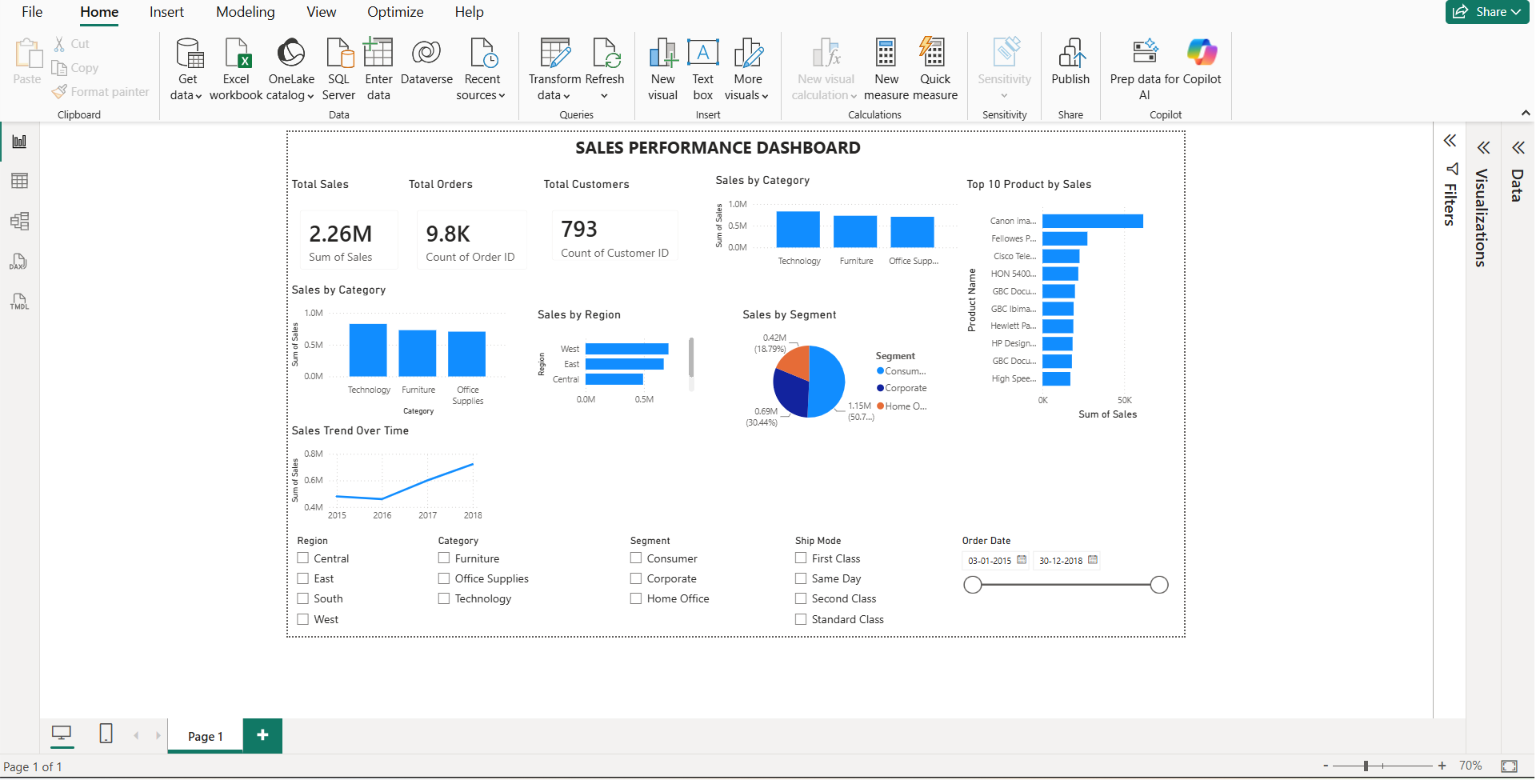

Layout of this report page (visuals, bound fields, positions):
{"tool":"powerbi","page":{"name":"Page 1","canvas":[1280,720],"ordinal":0},"visuals":[{"type":"textbox","box":[406,0,644,64],"z":0},{"type":"cardVisual","title":"Total Sales","fields":{"Data":["Sum(train.Sales)"]},"box":[0,64.3,175.7,150],"z":1000},{"type":"cardVisual","title":"Total Orders","fields":{"Data":["CountNonNull(train.Order ID)"]},"box":[167.1,64.3,192.9,150],"z":2000},{"type":"cardVisual","title":"Total Customers","fields":{"Data":["Count(train.Customer ID)"]},"box":[360,64.3,215.7,137.1],"z":3000},{"type":"clusteredColumnChart","title":"Sales by Category","fields":{"Category":["train.Category"],"Y":["Sum(train.Sales)"]},"box":[0,214.3,318.6,195.7],"z":4000},{"type":"lineChart","title":"Sales Trend Over Time","fields":{"Y":["Sum(train.Sales)"],"Category":["train.Order Date.Variation.Date Hierarchy.Year","train.Order Date.Variation.Date Hierarchy.Quarter","train.Order Date.Variation.Date Hierarchy.Month"]},"box":[0,415.7,282,150],"z":5000},{"type":"clusteredBarChart","title":"Sales by Region","fields":{"Category":["train.Region"],"Y":["Sum(train.Sales)"]},"box":[351.4,250,234.3,150],"z":6000},{"type":"pieChart","title":"Sales by Segment","fields":{"Category":["train.Segment"],"Y":["Sum(train.Sales)"]},"box":[644.3,250,282.9,182.9],"z":7000},{"type":"clusteredBarChart","title":"Top 10 Product by Sales","fields":{"Category":["train.Product Name"],"Y":["Sum(train.Sales)"]},"box":[964.3,64.3,315.7,351.4],"z":7001},{"type":"clusteredColumnChart","title":"Sales by Category","fields":{"Category":["train.Category"],"Y":["Sum(train.Sales)"]},"box":[605.7,58.6,358.6,141.4],"z":7002},{"type":"slicer","fields":{"Values":["train.Region"]},"box":[0,570,169,150],"z":7003},{"type":"slicer","fields":{"Values":["train.Category"]},"box":[201.4,570,234,150],"z":7004},{"type":"slicer","fields":{"Values":["train.Ship Mode"]},"box":[711.4,570,198,150],"z":7005},{"type":"slicer","fields":{"Values":["train.Segment"]},"box":[475.7,570,198,150],"z":7006},{"type":"slicer","fields":{"Values":["train.Order Date"]},"box":[950,570,316,150],"z":7007}]}

Visuals, with their boxes on the page's 1280x720 design canvas (x1, y1, x2, y2). These are canvas units, not pixel positions in the 1535x780 screenshot, which may show the page scaled, cropped or inside an application window:
textbox: BBox(406, 0, 1050, 64)
"Total Sales" cardVisual: BBox(0, 64, 176, 214)
"Total Orders" cardVisual: BBox(167, 64, 360, 214)
"Total Customers" cardVisual: BBox(360, 64, 576, 201)
"Sales by Category" clusteredColumnChart: BBox(0, 214, 319, 410)
"Sales Trend Over Time" lineChart: BBox(0, 416, 282, 566)
"Sales by Region" clusteredBarChart: BBox(351, 250, 586, 400)
"Sales by Segment" pieChart: BBox(644, 250, 927, 433)
"Top 10 Product by Sales" clusteredBarChart: BBox(964, 64, 1280, 416)
"Sales by Category" clusteredColumnChart: BBox(606, 59, 964, 200)
slicer - train.Region: BBox(0, 570, 169, 720)
slicer - train.Category: BBox(201, 570, 435, 720)
slicer - train.Ship Mode: BBox(711, 570, 909, 720)
slicer - train.Segment: BBox(476, 570, 674, 720)
slicer - train.Order Date: BBox(950, 570, 1266, 720)
